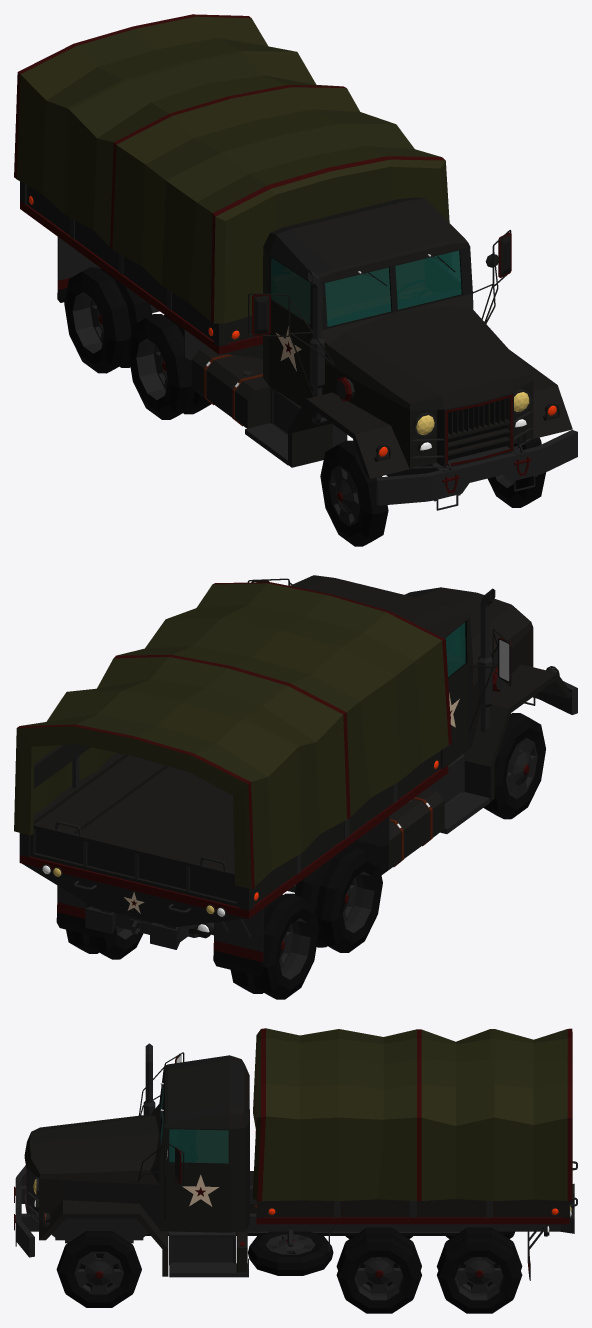
Rendered from MilitaryTruck_02.FBX.
3 renders of one model, top to bottom at view 1: azimuth 30°, elevation 25°; view 2: azimuth 150°, elevation 25°; view 3: azimuth 270°, elevation 25°, orthographic. The views are drawn at different scales.
Parts seen in each view (by area): view 1: tarpaulin, MilitaryTruck_02, interior, wheels_b2_r, bumper_f, wheels_b1_r, wheel_f_r, exhaust, mirror_r, wheel_f_l, mirror_l, lights; view 2: tarpaulin, MilitaryTruck_02, flap, wheels_b1_r, wheels_b2_r, wheel_f_r, exhaust, wheels_b2_l, mirror_r, interior, bumper_f; view 3: tarpaulin, MilitaryTruck_02, wheels_b2_l, wheels_b1_l, wheel_f_l, spareWheel, interior, bumper_f, mirror_l, exhaust, jerryCan, stars.
Part boxes in pixels (x1,y1,x2,y2): tarpaulin: (14, 14, 449, 323); MilitaryTruck_02: (20, 181, 572, 478); interior: (271, 251, 461, 326); wheels_b2_r: (64, 267, 152, 373); bumper_f: (376, 430, 577, 510); wheels_b1_r: (128, 314, 211, 419); wheel_f_r: (320, 440, 388, 546); exhaust: (307, 269, 329, 424); mirror_r: (248, 293, 334, 396); wheel_f_l: (488, 437, 545, 507); mirror_l: (473, 230, 511, 323); lights: (28, 195, 557, 457); tarpaulin: (14, 582, 451, 889); MilitaryTruck_02: (19, 575, 572, 976); flap: (30, 821, 239, 907); wheels_b1_r: (294, 847, 382, 952); wheels_b2_r: (230, 893, 319, 999); wheel_f_r: (483, 713, 545, 819); exhaust: (478, 588, 495, 732); wheels_b2_l: (66, 926, 143, 959); mirror_r: (469, 629, 511, 731); interior: (445, 622, 464, 676); bumper_f: (524, 681, 577, 714); tarpaulin: (252, 1028, 572, 1201); MilitaryTruck_02: (21, 1055, 577, 1280); wheels_b2_l: (436, 1227, 522, 1313); wheels_b1_l: (336, 1227, 421, 1313); wheel_f_l: (56, 1231, 141, 1307); spareWheel: (248, 1231, 333, 1275); interior: (161, 1090, 228, 1163); bumper_f: (14, 1165, 34, 1257); mirror_l: (137, 1141, 184, 1218); exhaust: (143, 1043, 155, 1114); jerryCan: (236, 1231, 247, 1272); stars: (182, 1174, 219, 1206).
Bounding box in the file's own units: 34.56 × 34.64 × 81.46.
